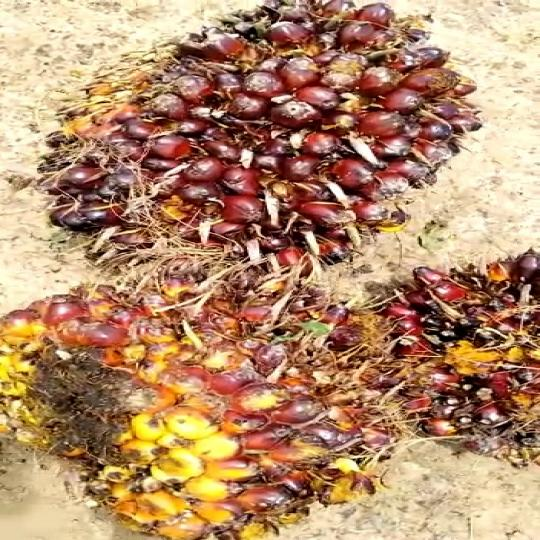masak: (0, 264, 436, 540), (50, 0, 474, 278)
